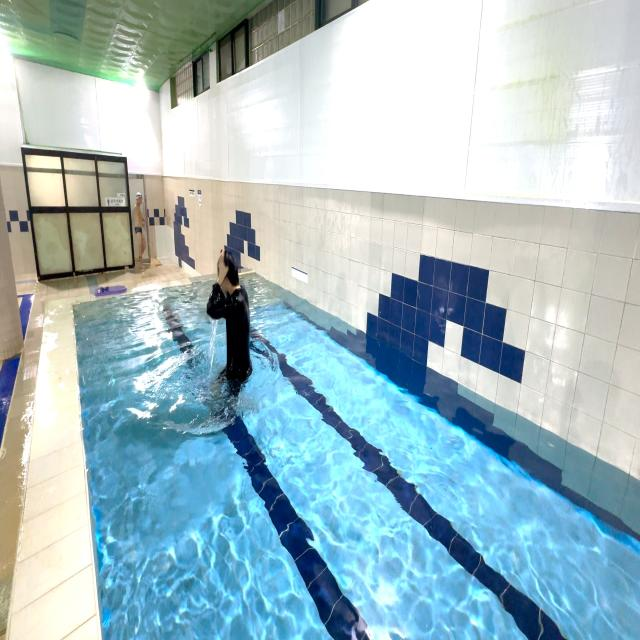Swimming: (206, 239, 253, 389)
